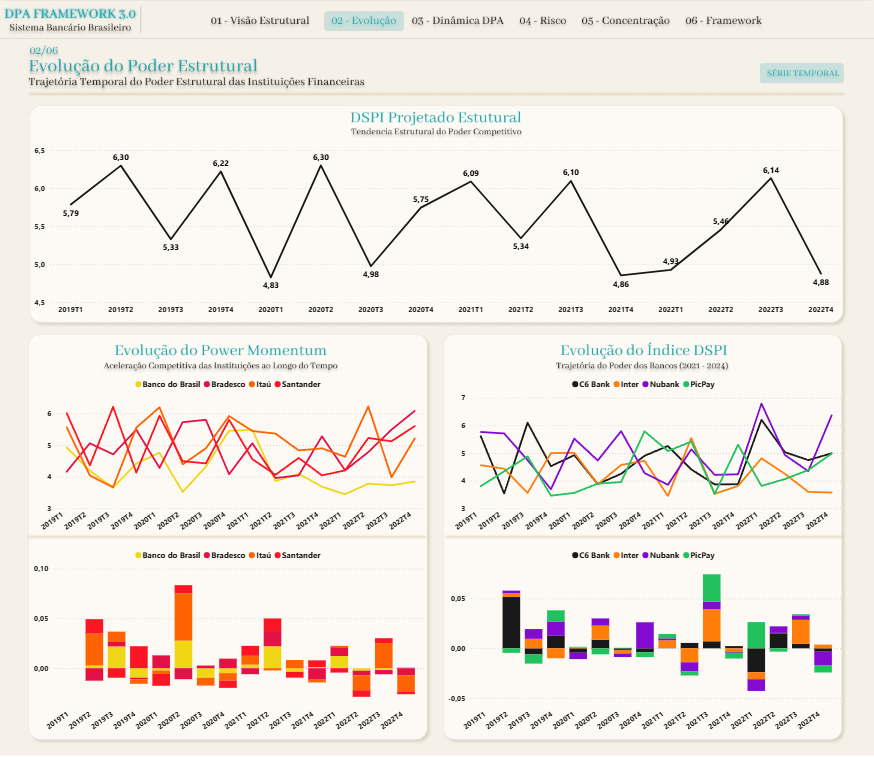

What the dashboard file says about the page in this screenshot:
{"tool":"powerbi","page":{"name":"Evolução","canvas":[1460,1261],"ordinal":1},"visuals":[{"type":"lineChart","fields":{"Category":["dim_tempo_v2.ano_trimestre"],"Y":["fato_financeiro_v2.DSPI"],"Series":["dim_banco_v2.nome_banco"]},"box":[52.5,618.8,660,283.8],"z":0},{"type":"lineChart","fields":{"Category":["dim_tempo_v2.ano_trimestre"],"Y":["fato_financeiro_v2.DSPI"],"Series":["dim_banco_v2.nome_banco"]},"box":[742.5,618.8,665,283.8],"z":1000},{"type":"columnChart","fields":{"Category":["dim_tempo_v2.ano_trimestre"],"Series":["dim_banco_v2.nome_banco"],"Y":["fato_financeiro_v2.Power Momentum"]},"box":[52.5,902.5,660,331.2],"z":2000},{"type":"columnChart","fields":{"Category":["dim_tempo_v2.ano_trimestre"],"Series":["dim_banco_v2.nome_banco"],"Y":["fato_financeiro_v2.Power Momentum"]},"box":[742.5,902.5,665,331.2],"z":3000},{"type":"lineChart","fields":{"Y":["fato_financeiro_v2.DSPI Projetado"],"Category":["dim_tempo_v2.ano_trimestre"]},"box":[52.5,235,1355,297.5],"z":4000},{"type":"pageNavigator","box":[342.5,12.5,933.8,48.8],"z":5000}]}

Visuals, with their boxes in screenshot pixels (x1, y1, x2, y2), scaled from the page's 1460x1261 canvas onto the 874x757 screenshot:
lineChart - dim_tempo_v2.ano_trimestre x fato_financeiro_v2.DSPI: l=31, t=371, r=427, b=542
lineChart - dim_tempo_v2.ano_trimestre x fato_financeiro_v2.DSPI: l=444, t=371, r=843, b=542
columnChart - dim_tempo_v2.ano_trimestre x dim_banco_v2.nome_banco: l=31, t=542, r=427, b=741
columnChart - dim_tempo_v2.ano_trimestre x dim_banco_v2.nome_banco: l=444, t=542, r=843, b=741
lineChart - fato_financeiro_v2.DSPI Projetado x dim_tempo_v2.ano_trimestre: l=31, t=141, r=843, b=320
pageNavigator: l=205, t=8, r=764, b=37
